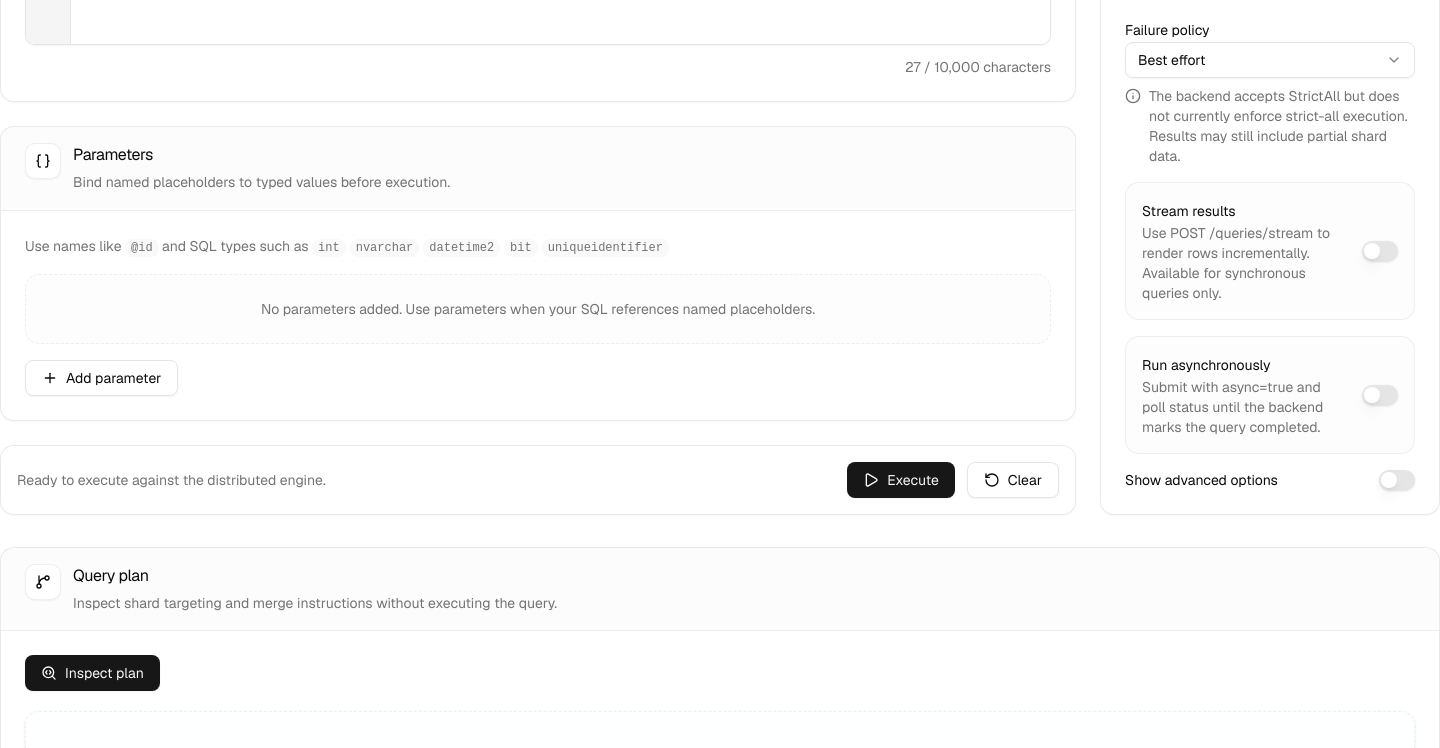
QueryConsolePage › shows parameter name validation errors
The image size is (1440, 748).
(page scrolled)
Click the button "Add parameter" at coordinates (102, 378), box [25,360,178,396]
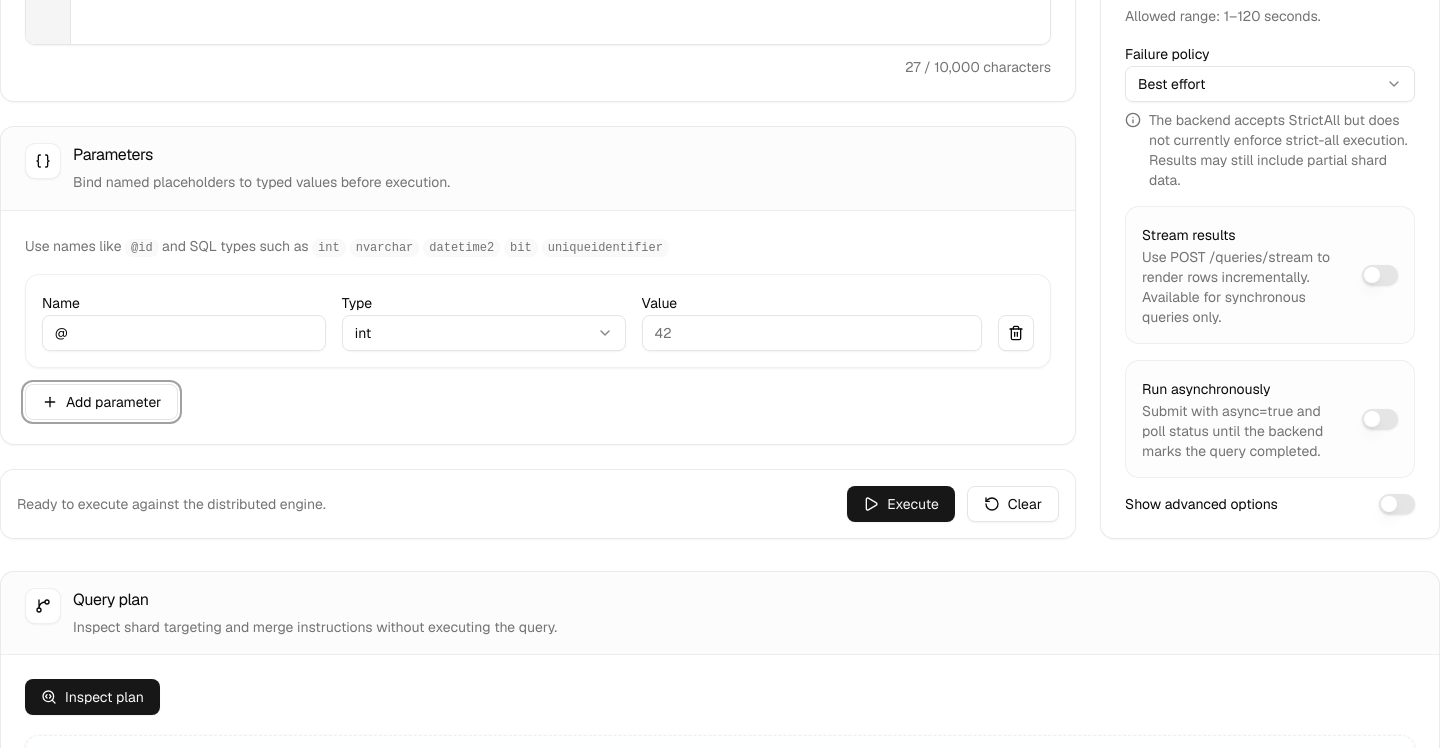
Replace the text in the field labelled "Name" with "@1invalid" at coordinates (184, 332), box [42,314,326,350]
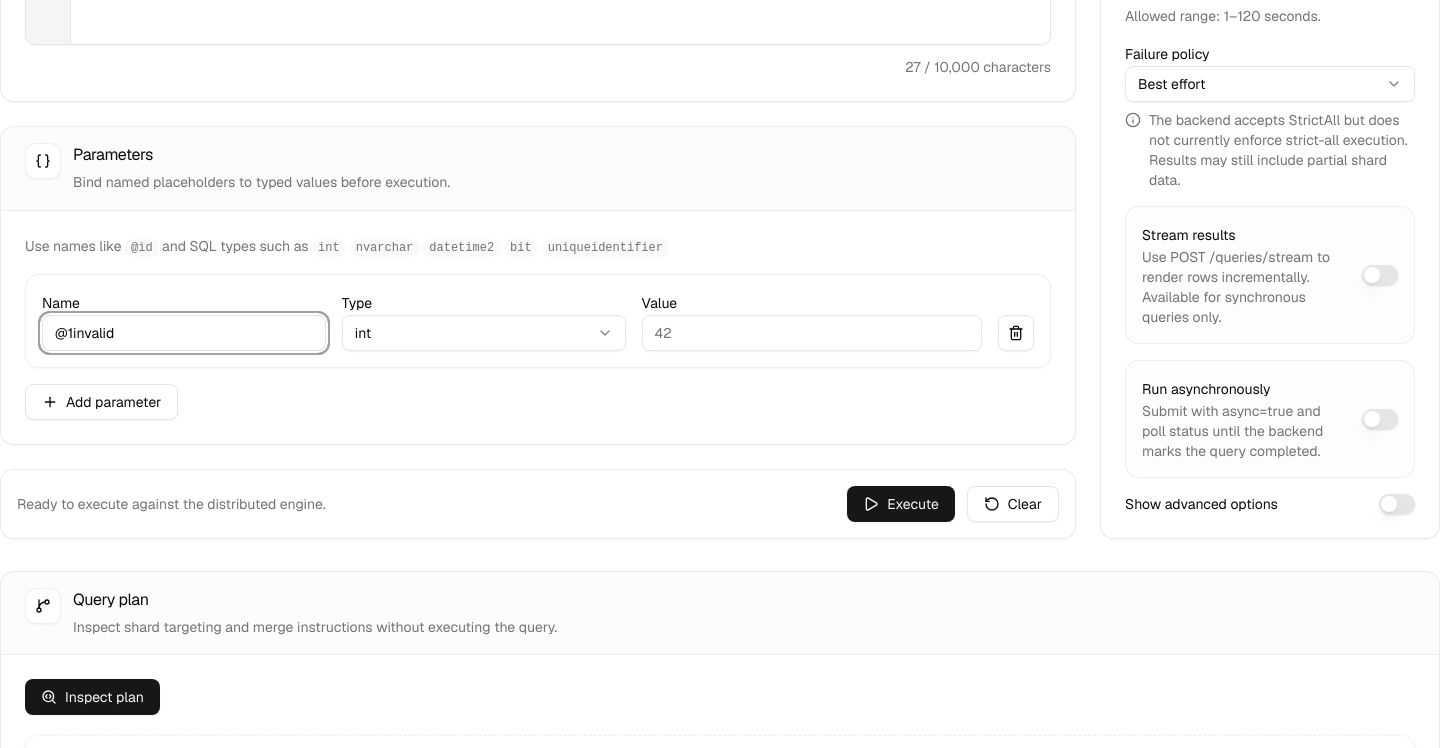
Click the button "Execute" at coordinates (901, 504), box [847,486,955,522]
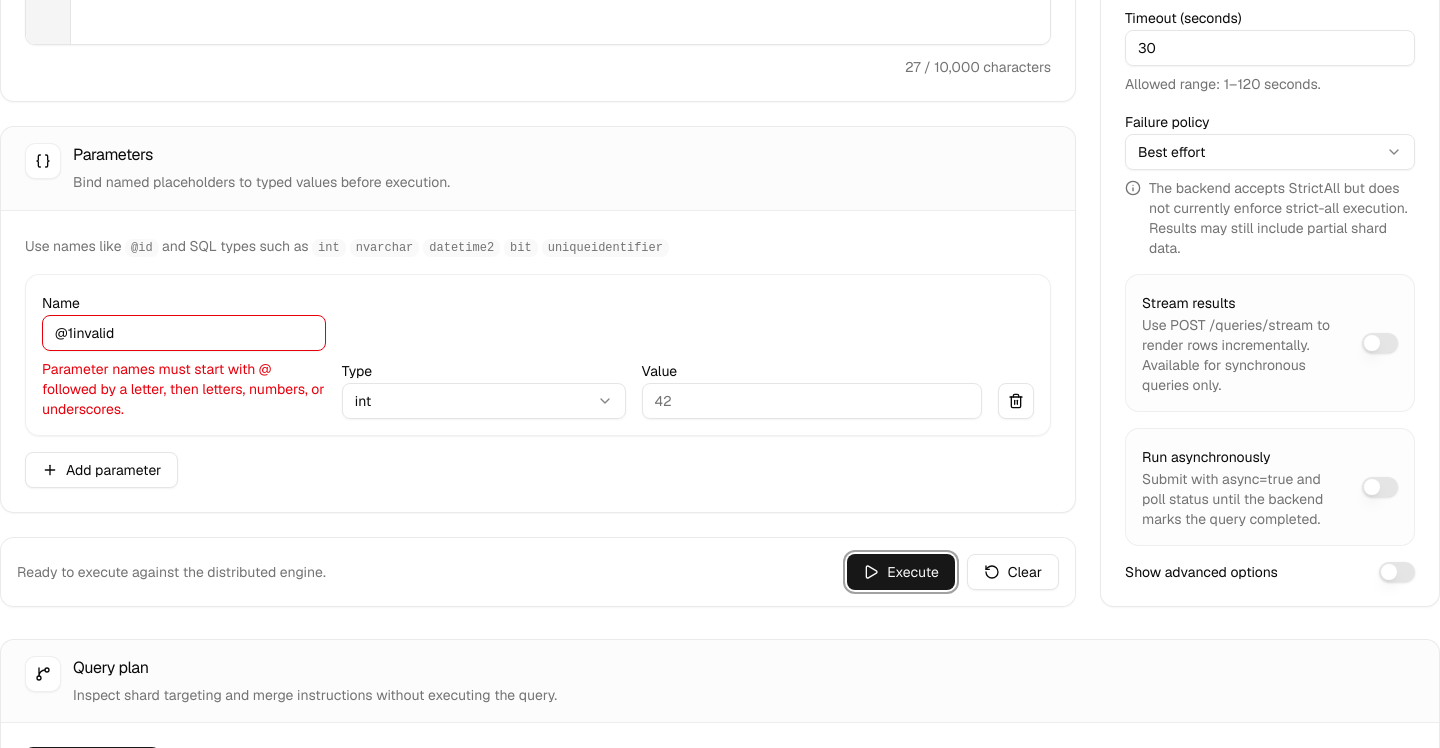
Expected: the text "Parameter names must start with @" is shown, [42,360,324,418]
